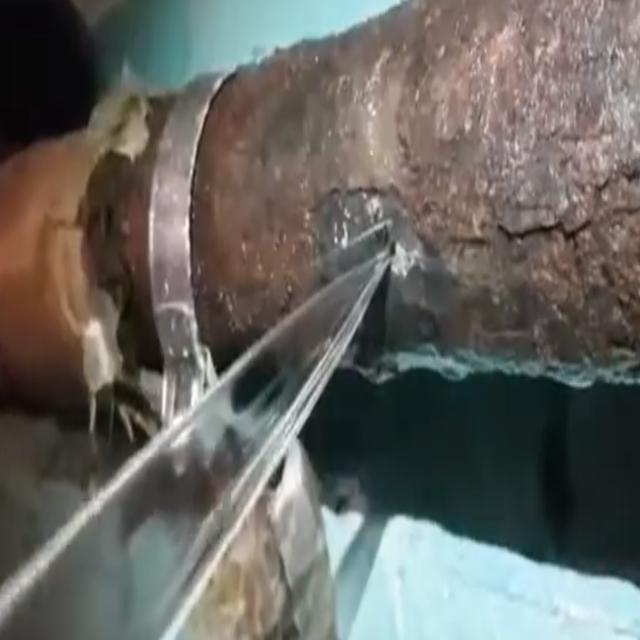leak: (0, 223, 391, 637)
